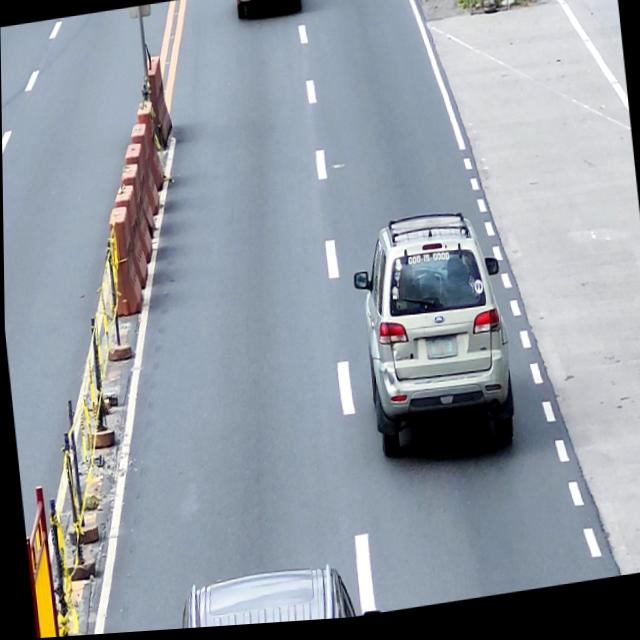Car: (346, 209, 517, 469), (144, 554, 357, 633), (234, 0, 303, 24)
License-Plate: (422, 336, 460, 372)
